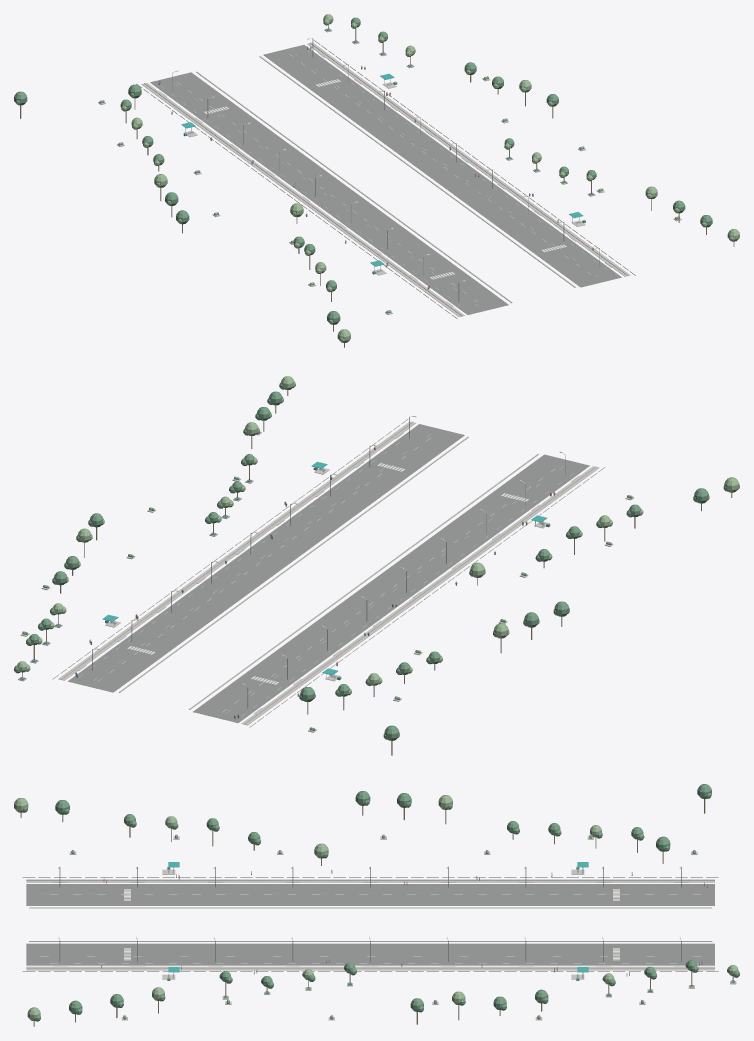
The picture shows the model from 3 angles, top to bottom: view 1: azimuth 30°, elevation 25°; view 2: azimuth 150°, elevation 25°; view 3: azimuth 270°, elevation 25°; orthographic projection. The views are drawn at different scales.
Parts seen in each view (by area): view 1: nearby/12; view 2: nearby/12; view 3: nearby/12.
Boxes of the visible parts, x1,y1,x2,y2 form: nearby/12: (14,14,739,347); nearby/12: (14,376,739,755); nearby/12: (14,784,739,1026).
Size of the model in its own units: 200 by 12.28 by 280.
